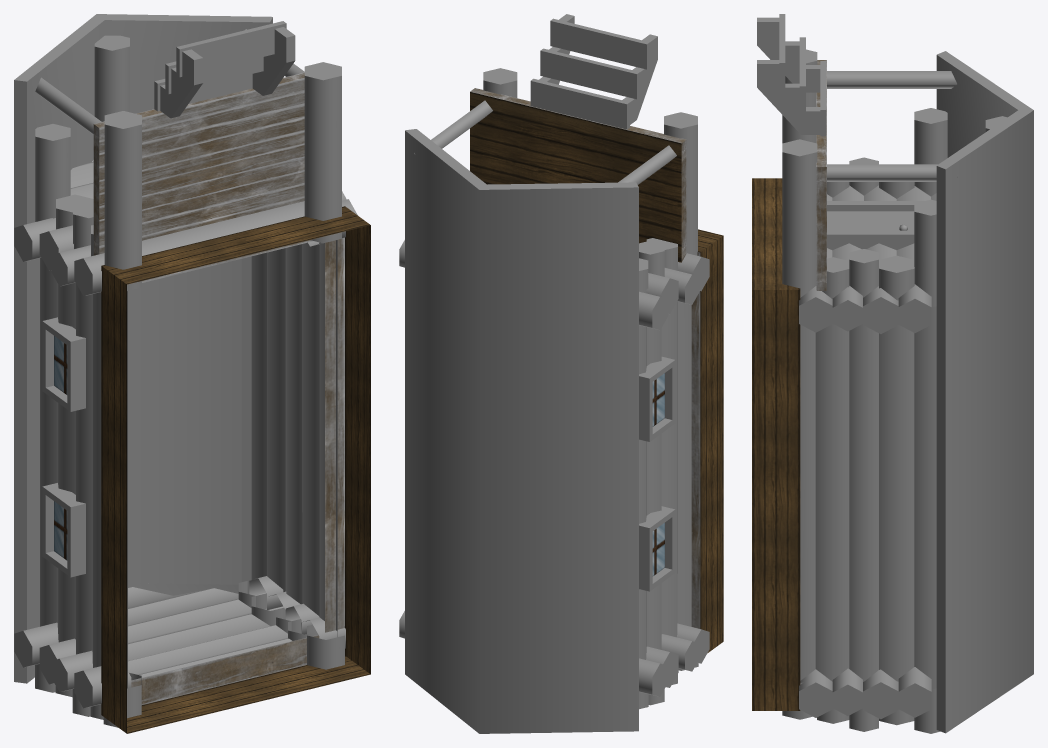
Rendered from Log_House_B.fbx.
3 views of the same model, side by side, from view 1: azimuth 30°, elevation 25°; view 2: azimuth 150°, elevation 25°; view 3: azimuth 270°, elevation 25° (orthographic). The views are drawn at different scales.
Visible parts, largest first — view 1: Log_House_B; view 2: Log_House_B; view 3: Log_House_B.
Boxes of the visible parts, <box> form: Log_House_B: <box>14,14,370,733</box>; Log_House_B: <box>399,14,723,733</box>; Log_House_B: <box>752,14,1033,733</box>.
Size of the model in its own units: 0.518 by 1.21 by 0.4823.
